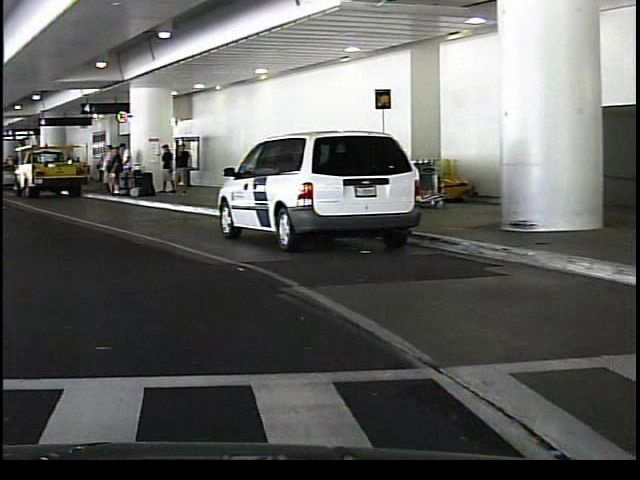person: (171, 139, 189, 196), (97, 140, 111, 196)
